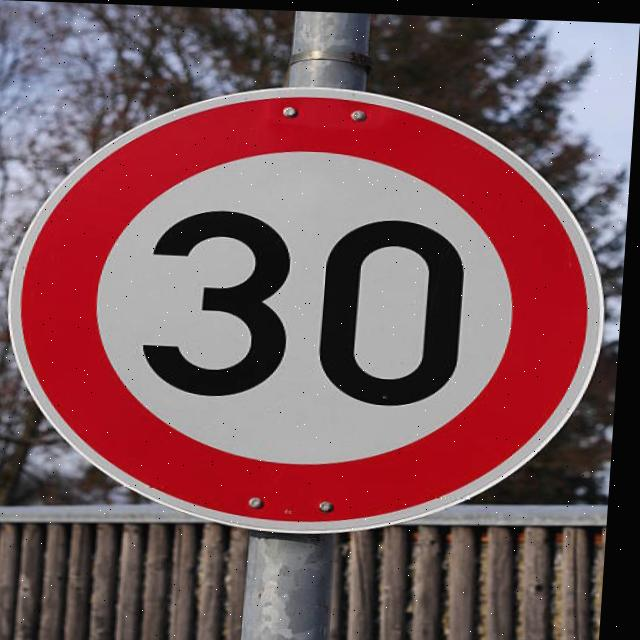Speed limit 30: (1, 75, 623, 542)
